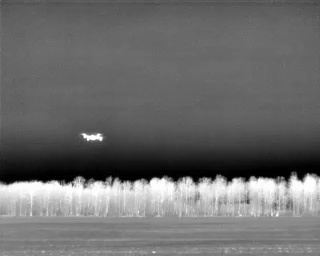DRONE: (76, 127, 108, 147)
